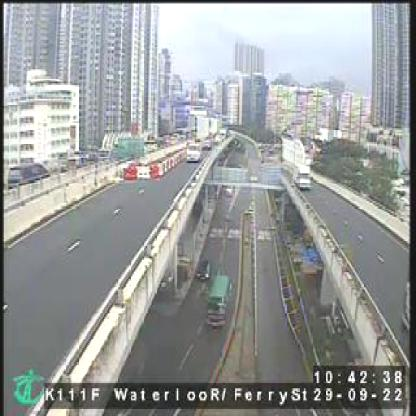Car: (6, 161, 53, 186), (196, 253, 212, 284), (184, 140, 202, 165), (198, 132, 213, 152)
Minibus: (205, 272, 233, 335)
Truck: (290, 162, 316, 192)
